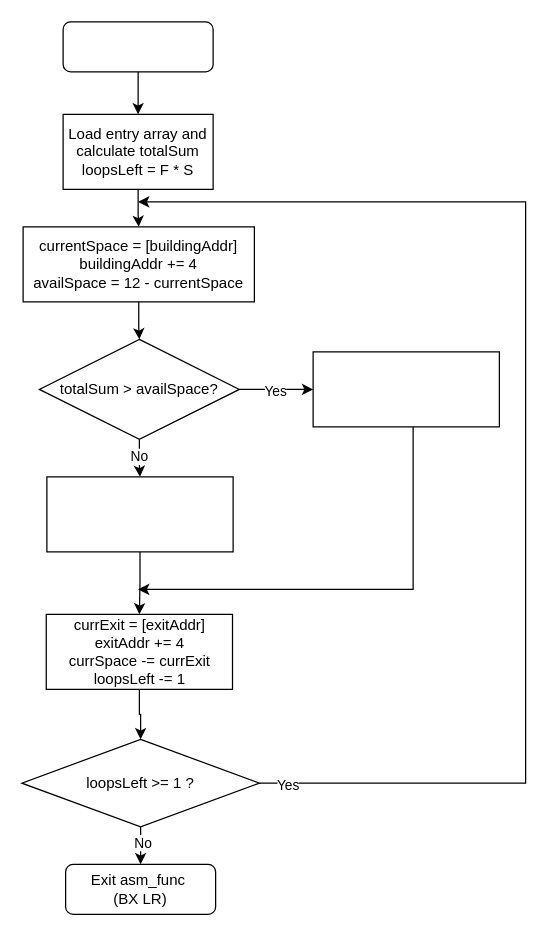
The diagram is 558 pixels wide and 936 high, and some of its shapes have lost their labels. The shapes that lost their labels are listed below. From the top down, each one's centre as x and y in pixels, then its label:
point 137,46: Start
point 405,389: currentSpace = 12 totalSum -= availSpace
point 139,514: currentSpace += totalSum totalSum = 0
